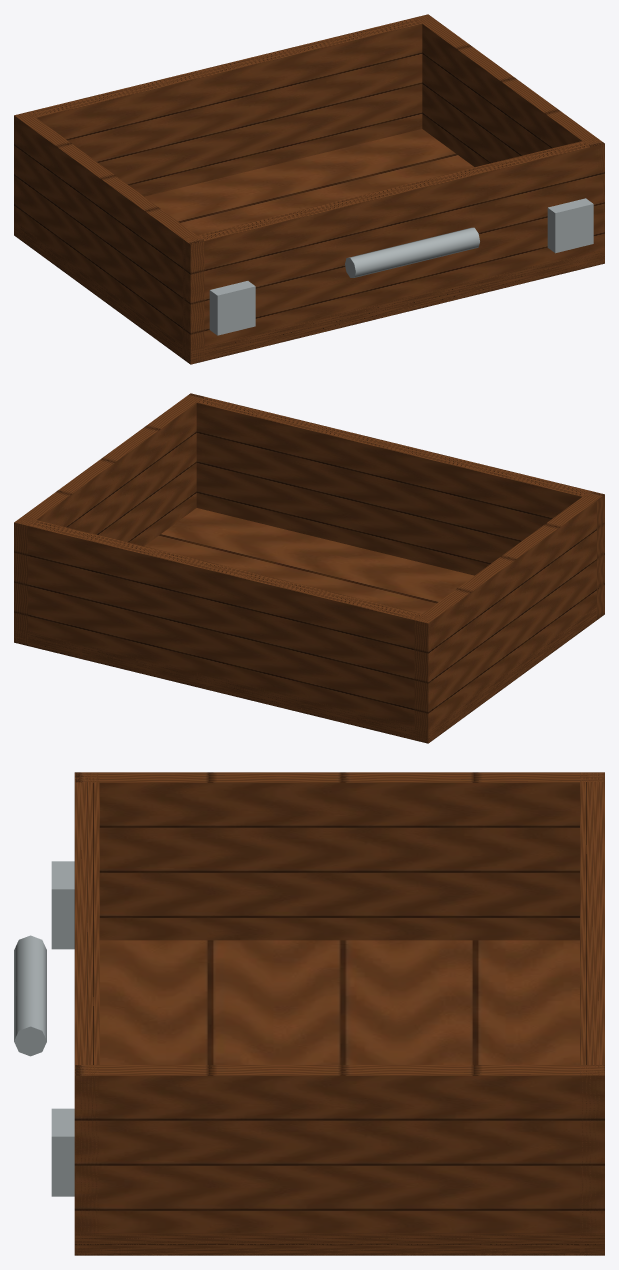
The model's file is suburban-outbreak-interiors-kitchen-removable-drawer-fb3597d7__19916.glb.
The picture shows the model from 3 angles, top to bottom: view 1: azimuth 30°, elevation 25°; view 2: azimuth 150°, elevation 25°; view 3: azimuth 270°, elevation 25°; orthographic projection. The views are drawn at different scales.
Visible parts, largest first — view 1: kitchen-removable-drawer; view 2: kitchen-removable-drawer; view 3: kitchen-removable-drawer.
Boxes of the visible parts, left/top/right/bottom form: kitchen-removable-drawer: left=14, top=14, right=604, bottom=364; kitchen-removable-drawer: left=14, top=393, right=604, bottom=743; kitchen-removable-drawer: left=14, top=772, right=604, bottom=1255.
Size of the model in its own units: 0.65 by 0.18 by 0.535.
2 materials, 1 textured.
